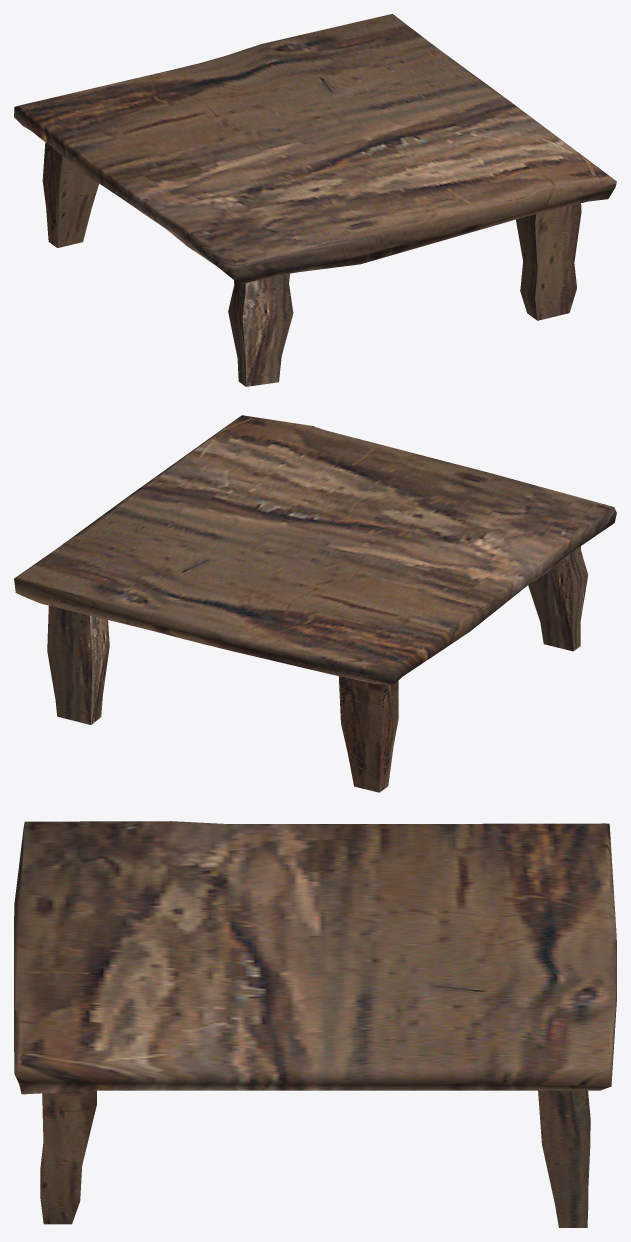
File: Table.FBX
3 views of the same model, one above another, from view 1: azimuth 30°, elevation 25°; view 2: azimuth 150°, elevation 25°; view 3: azimuth 270°, elevation 25° (orthographic). The views are drawn at different scales.
Parts seen in each view (by area): view 1: TableAsian; view 2: TableAsian; view 3: TableAsian.
Part boxes in pixels (x1=…): TableAsian: x1=14, y1=14, x2=616, y2=386; TableAsian: x1=14, y1=415, x2=616, y2=792; TableAsian: x1=14, y1=821, x2=616, y2=1227.
Size of the model in its own units: 2.4 by 0.8661 by 2.48.
1 material, 1 textured.
